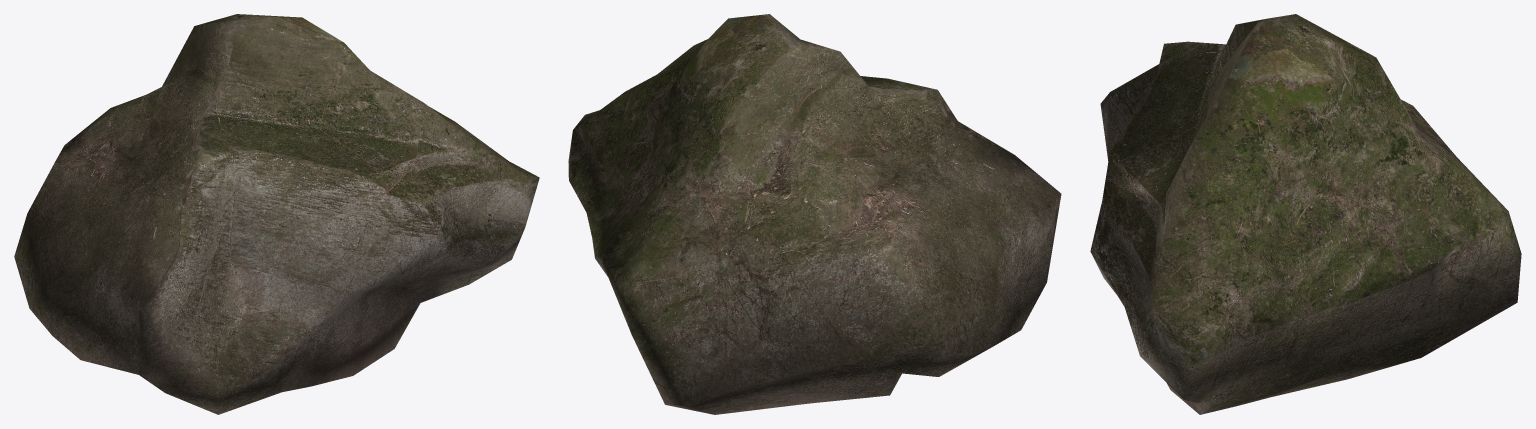
Rendered from wdbncbl_LOD5.glb.
3 renders of one model, left to right at view 1: azimuth 30°, elevation 25°; view 2: azimuth 150°, elevation 25°; view 3: azimuth 270°, elevation 25°, orthographic. The views are drawn at different scales.
Visible parts, largest first — view 1: Aset_nature_rock_M_wdbncbl_00_LOD5; view 2: Aset_nature_rock_M_wdbncbl_00_LOD5; view 3: Aset_nature_rock_M_wdbncbl_00_LOD5.
Part boxes in pixels (box(x1,y1,x2,y2)): Aset_nature_rock_M_wdbncbl_00_LOD5: box(14, 14, 539, 414); Aset_nature_rock_M_wdbncbl_00_LOD5: box(568, 14, 1061, 414); Aset_nature_rock_M_wdbncbl_00_LOD5: box(1090, 14, 1521, 414).
Bounding box in the file's own units: 1.3 × 0.9362 × 1.04.
Materials: 1 (1 with a texture image).
